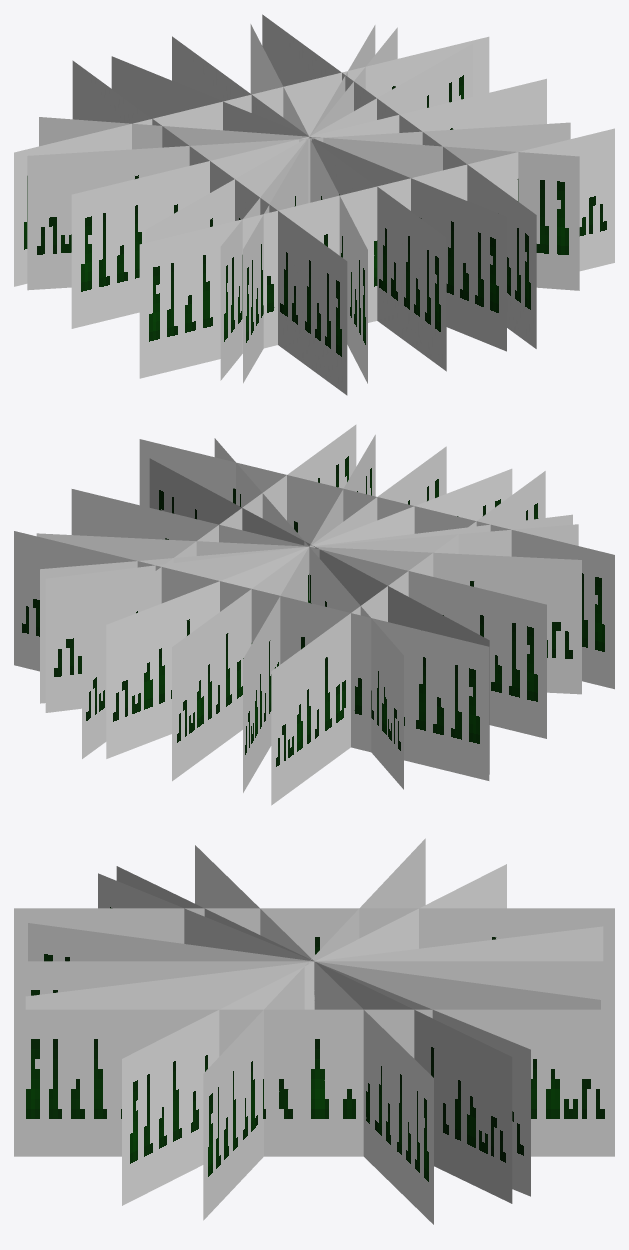
The model's file is Grama.glb.
3 renders of one model, top to bottom at view 1: azimuth 30°, elevation 25°; view 2: azimuth 150°, elevation 25°; view 3: azimuth 270°, elevation 25°, orthographic. The views are drawn at different scales.
Parts seen in each view (by area): view 1: Grass_Plane.014; view 2: Grass_Plane.014; view 3: Grass_Plane.014.
Boxes of the visible parts, <box> form: Grass_Plane.014: <box>14,14,614,395</box>; Grass_Plane.014: <box>14,424,614,805</box>; Grass_Plane.014: <box>14,838,614,1224</box>.
Bounding box in the file's own units: 1.85 × 0.499 × 1.85.
1 material, 1 textured.
